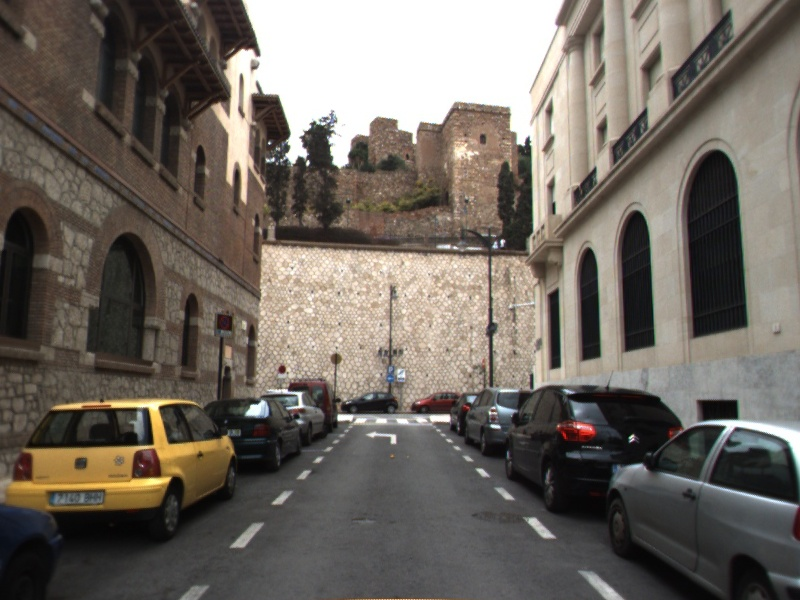LEFT: (363, 429, 399, 446)
